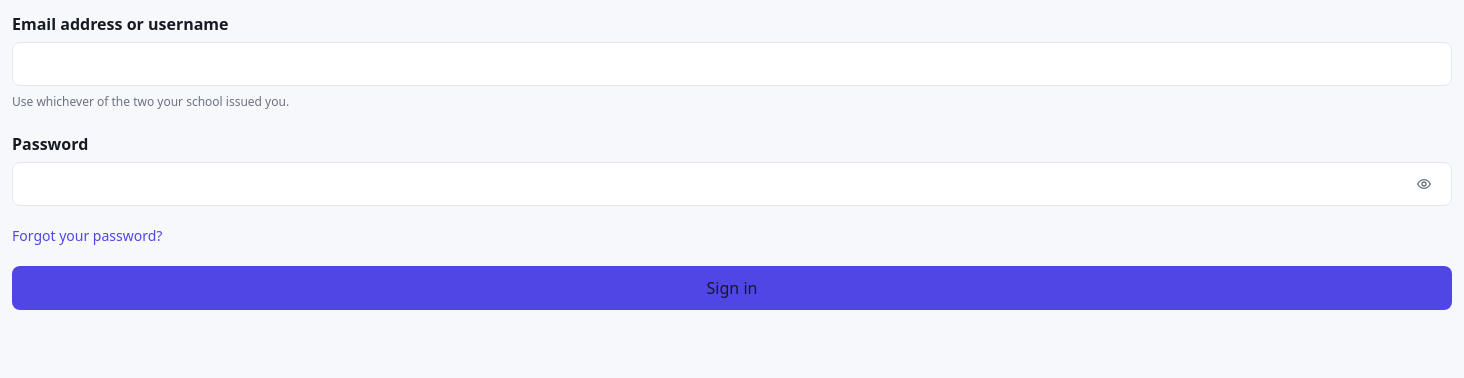
Test: client-side validation › clears a field error as soon as that field is edited, and only that one
Click the button with test id "sign-in-submit".
click(732, 288)  # box x1=12 y1=266 x2=1452 y2=310
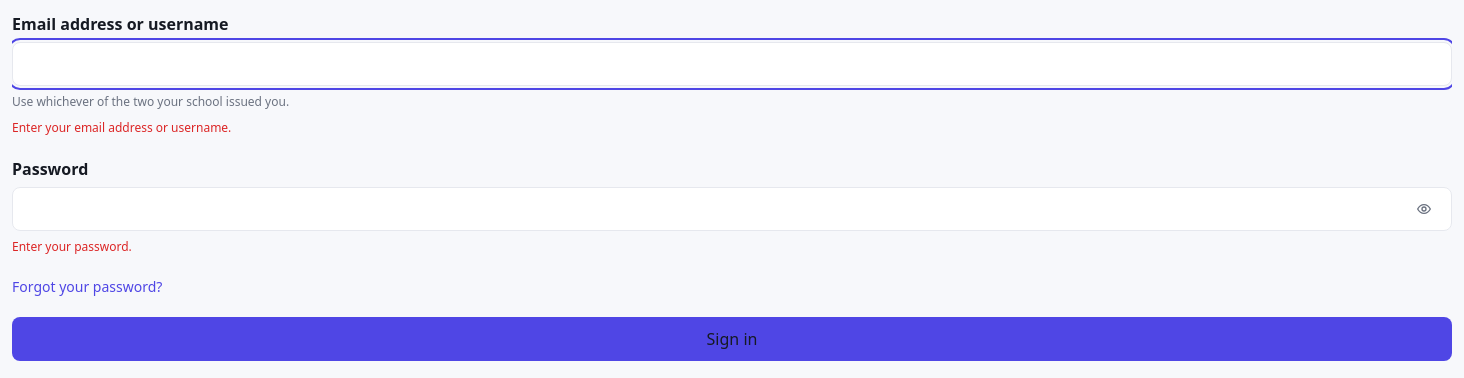
Now the text "Enter your password." is shown, box x1=12 y1=238 x2=132 y2=255
Type "a" into the field with test id "sign-in-identifier".
click(732, 64); type("a")  # box x1=12 y1=42 x2=1452 y2=86
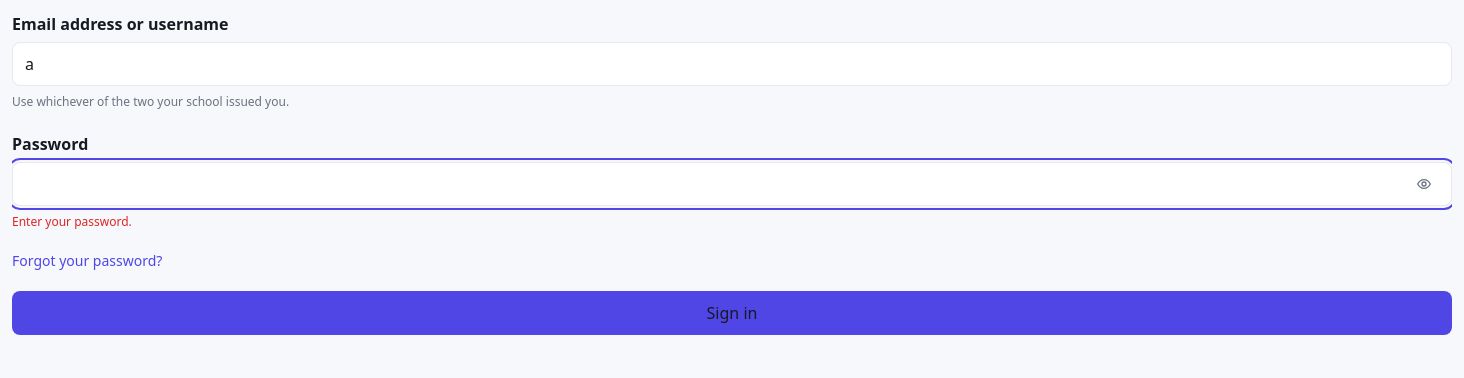
Now the text "Enter your password." is shown, box x1=12 y1=212 x2=132 y2=230
Now the text "Enter your email address or username." is gone
